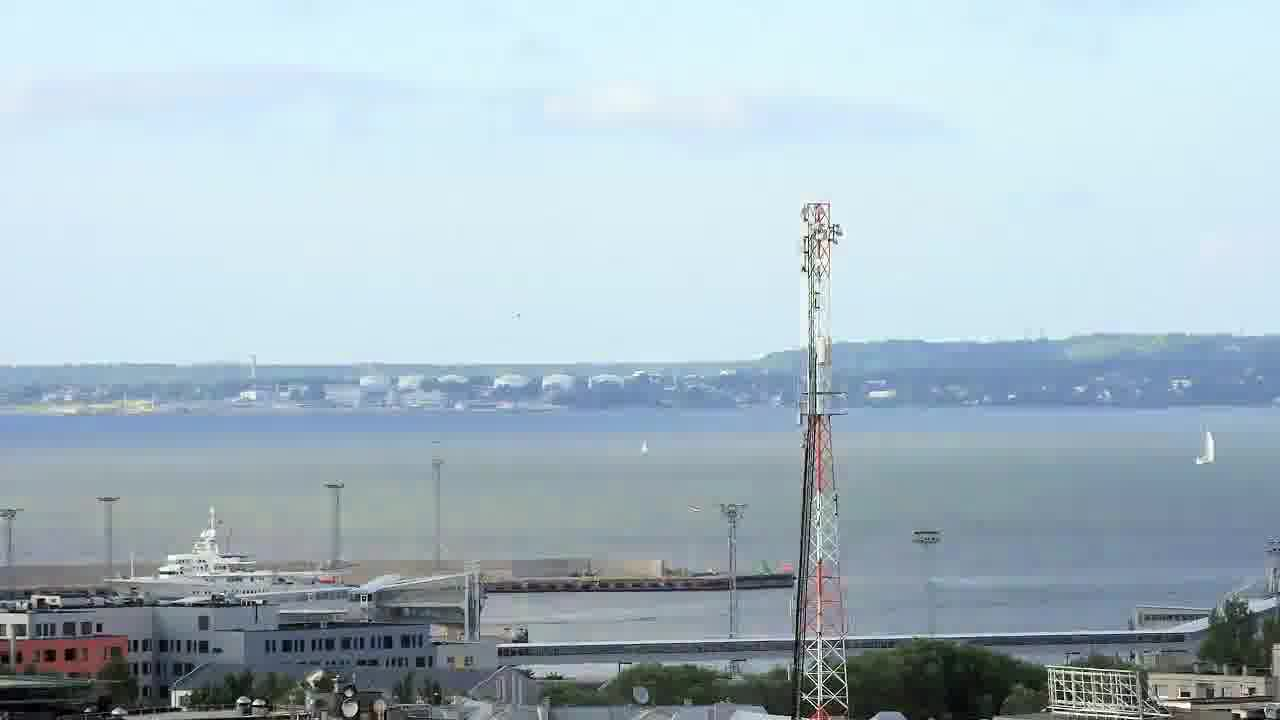type-2: (1157, 412, 1224, 487)
type-3: (84, 515, 355, 603)
